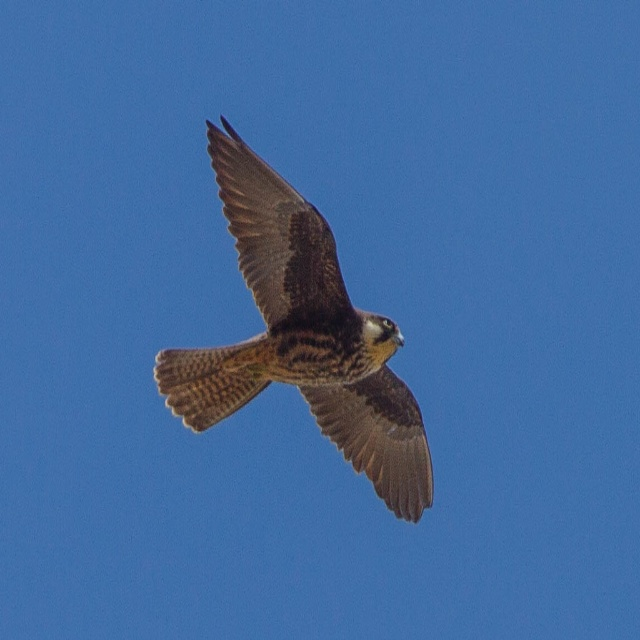Eagle: (157, 110, 436, 528)
